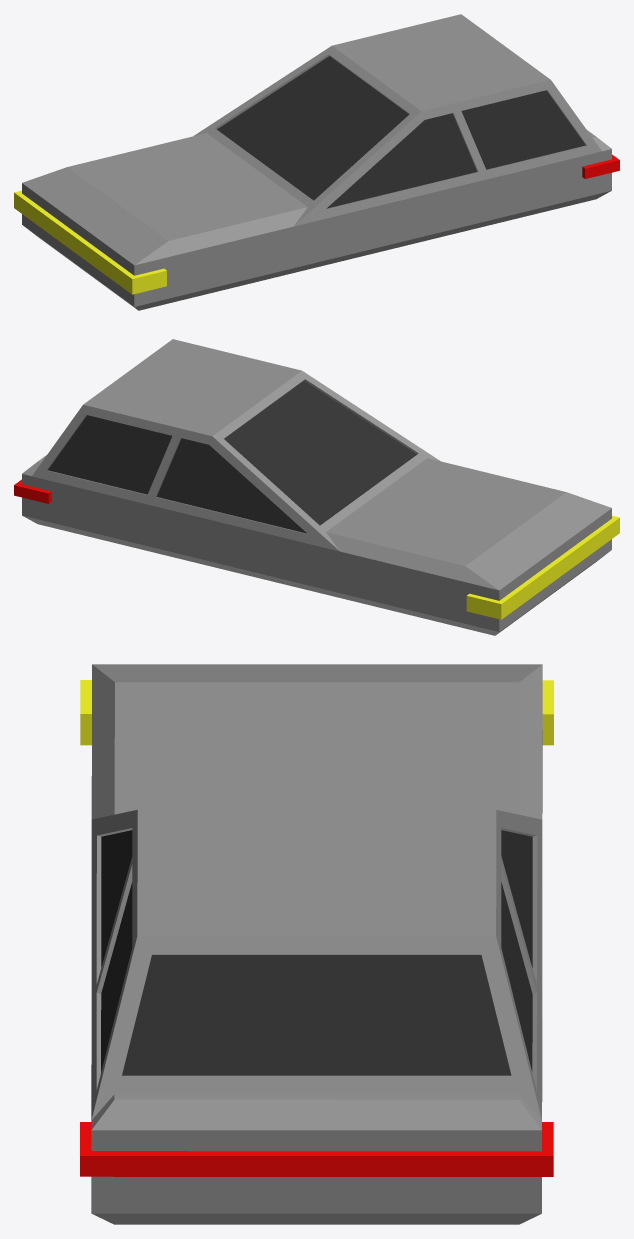
The model's file is car.FBX.
3 views of the same model, one above another, from view 1: azimuth 30°, elevation 25°; view 2: azimuth 150°, elevation 25°; view 3: azimuth 270°, elevation 25° (orthographic). The views are drawn at different scales.
Visible parts, largest first — view 1: Car; view 2: Car; view 3: Car.
Boxes of the visible parts, left/top/right/bottom form: Car: left=14, top=14, right=619, bottom=310; Car: left=14, top=339, right=619, bottom=635; Car: left=80, top=664, right=553, bottom=1224.
Size of the model in its own units: 241 by 59.06 by 102.
